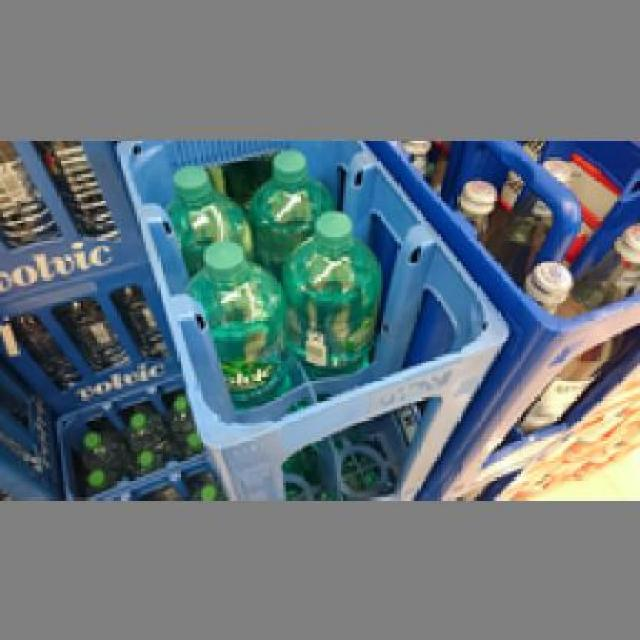Water: (174, 240, 294, 400), (282, 206, 378, 366), (234, 148, 323, 261)
